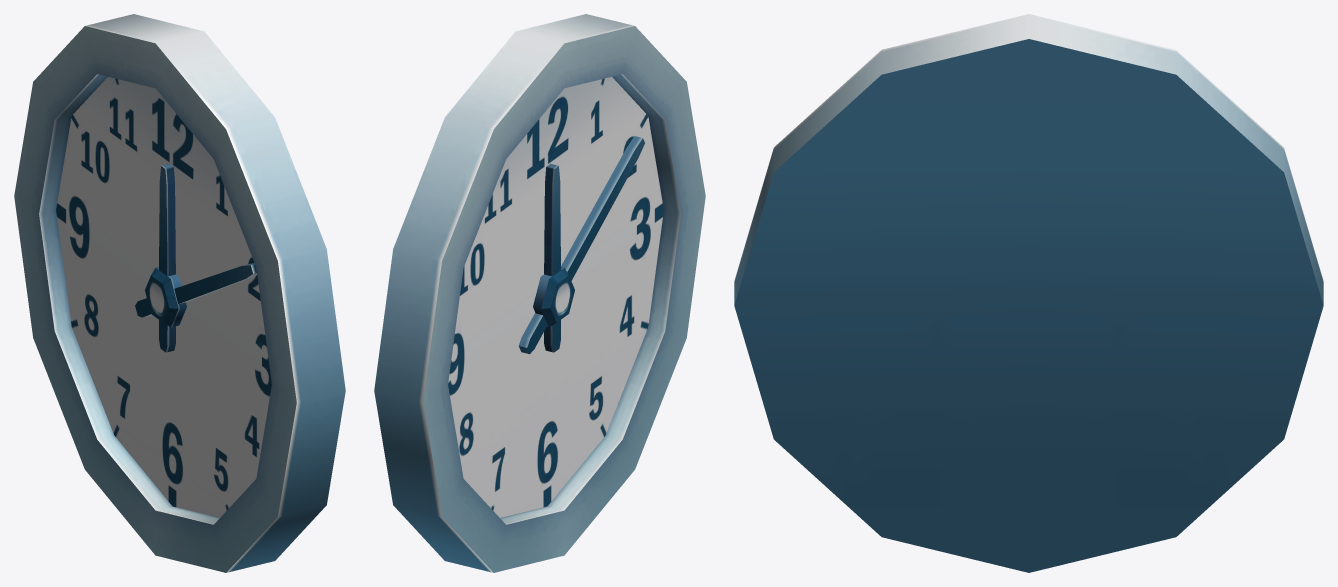
The model's file is my_autumnsports_01_clock.glb.
The picture shows the model from 3 angles, left to right: view 1: azimuth 30°, elevation 25°; view 2: azimuth 150°, elevation 25°; view 3: azimuth 270°, elevation 25°; orthographic projection. The views are drawn at different scales.
Visible parts, largest first — view 1: my_autumnsports_01_clock; view 2: my_autumnsports_01_clock; view 3: my_autumnsports_01_clock.
Boxes of the visible parts, x1,y1,x2,y2 form: my_autumnsports_01_clock: (14, 14, 345, 572); my_autumnsports_01_clock: (374, 14, 705, 572); my_autumnsports_01_clock: (734, 14, 1323, 572).
Bounding box in the file's own units: 0.000482 × 0.00481 × 0.00481.
1 material, 1 textured.
